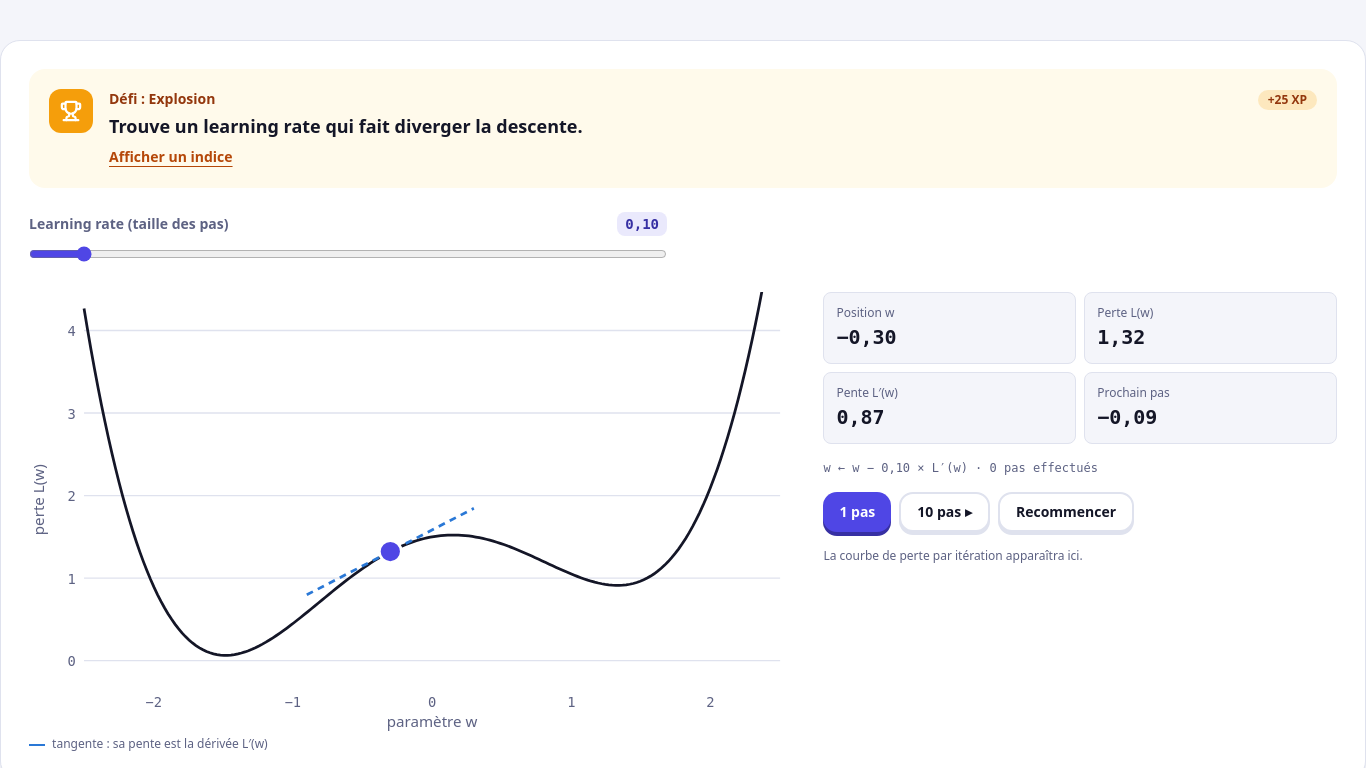
Scenario: labos › GradientLab : divergence détectée
Set the slider labelled "Learning rate (taille des pas) 0,10" to "1.1": (607, 254) [29,246,667,262]
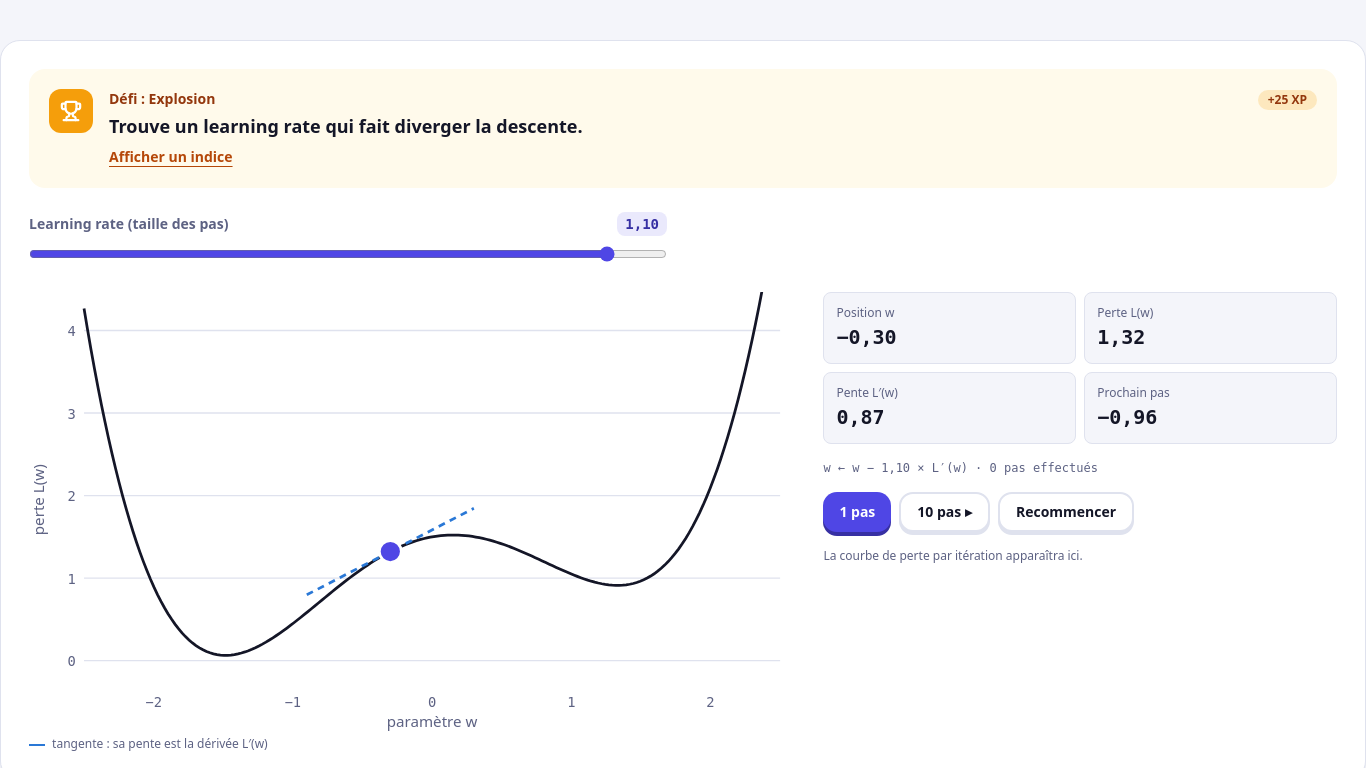
Click the button "10 pas ▸": (945, 512) [899,492,990,532]
Wait 1440 ms
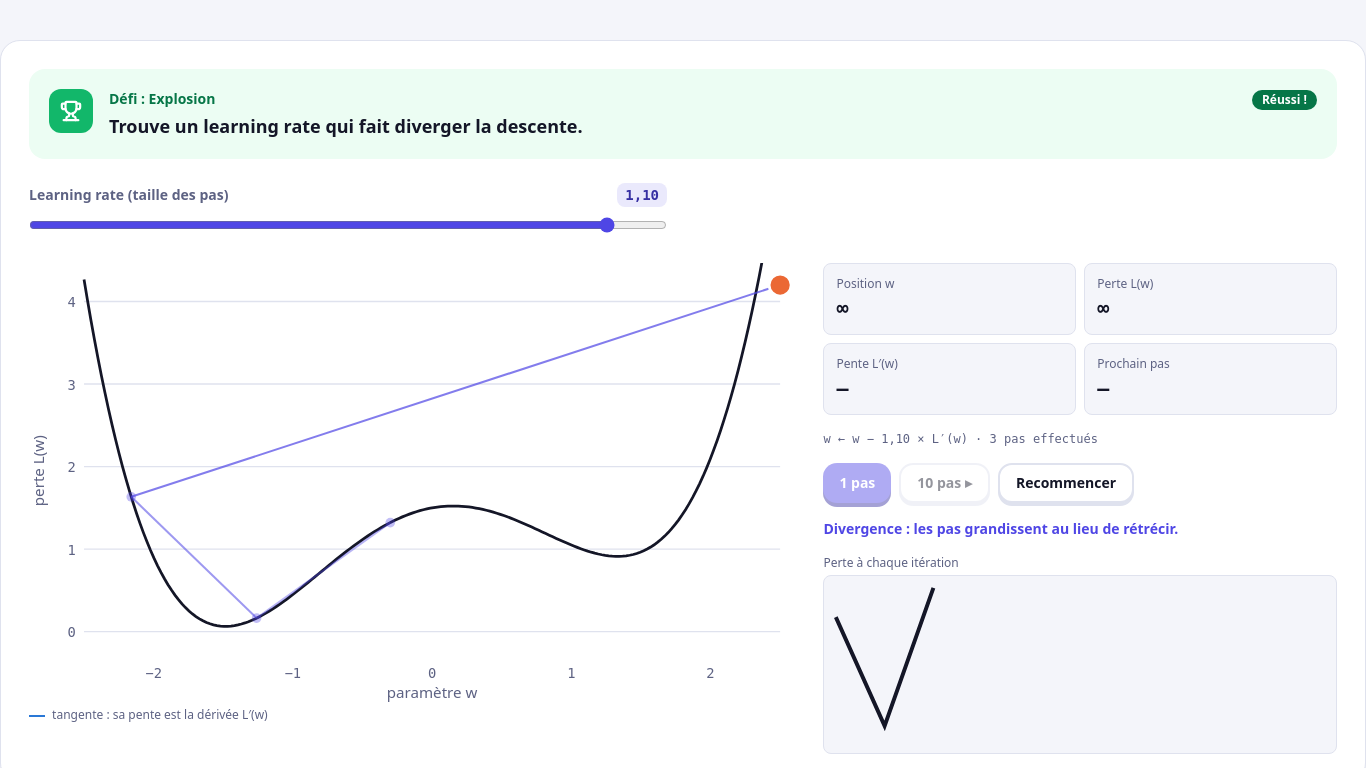
Expected: the text "Divergence : les pas grandissent au lieu de rétrécir." is shown, [823,519,1178,538]
